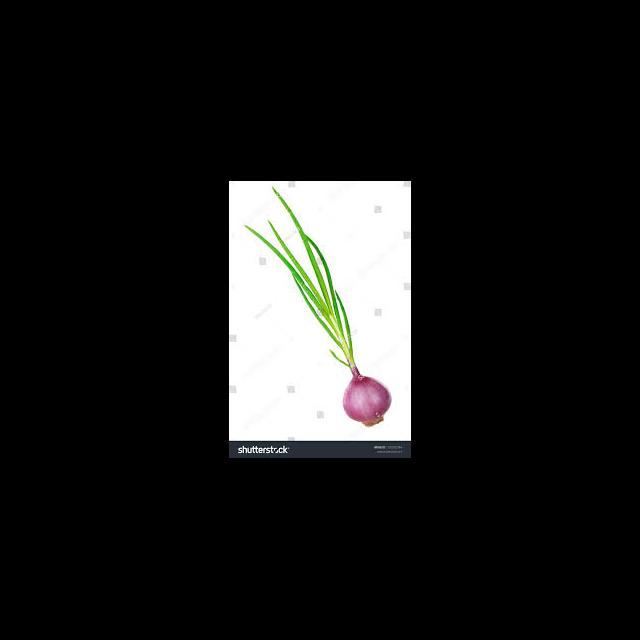green_onion: (243, 186, 361, 367)
onion: (338, 364, 392, 428)
